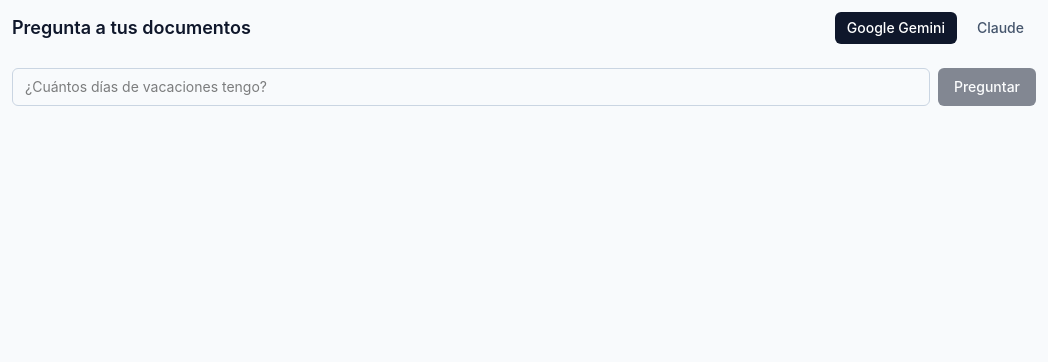
Scenario: AskPage › submits a question and renders the answer with the Gemini badge by default
Step 1. Type "¿Cuántos días puedo teletrabajar?" into the field with placeholder "¿Cuántos días de vacaciones tengo?" → (471, 87), box 12,68 -> 930,106
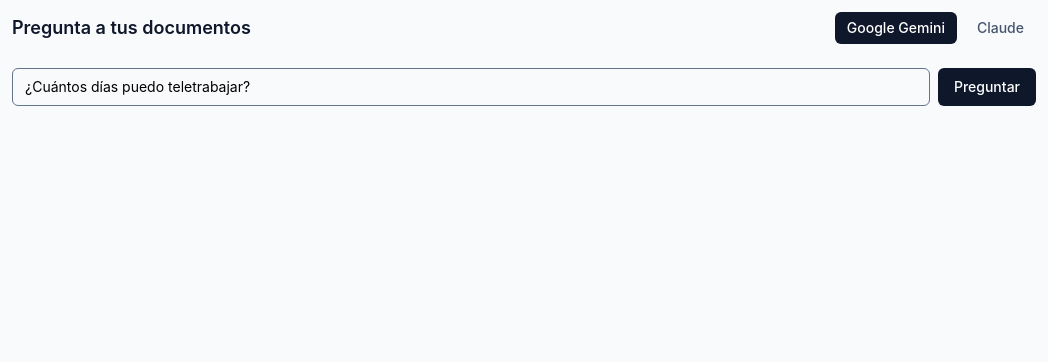
Step 2. Click the button "Preguntar" → (987, 87), box 938,68 -> 1036,106
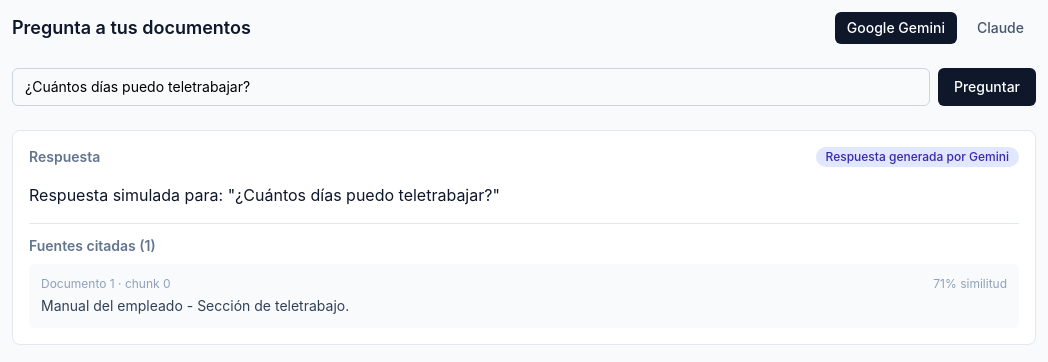
Check: the text "Respuesta simulada para: \"¿Cuántos días puedo teletrabajar?\"" is shown, box 29,185 -> 500,205
Check: the text "Respuesta generada por Gemini" is shown, box 816,147 -> 1019,167
Check: the text "71% similitud" is shown, box 933,276 -> 1007,292
